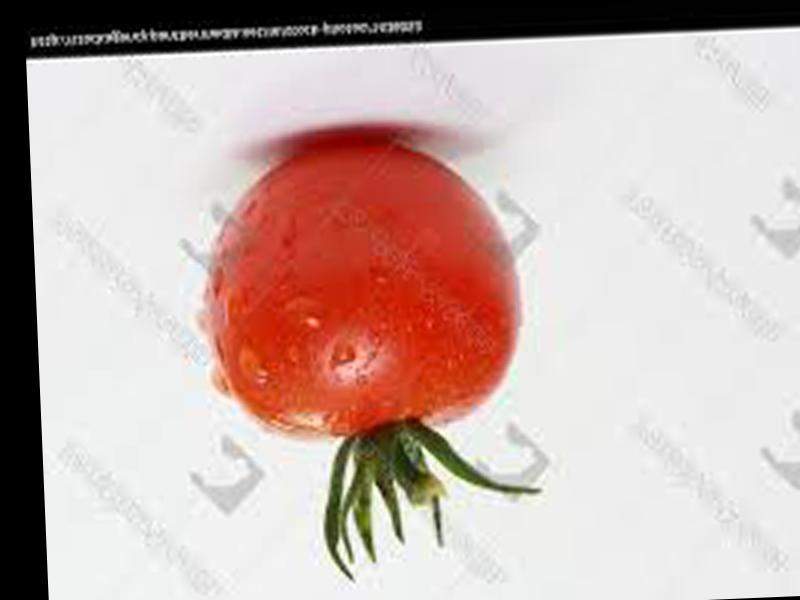Tomato: (200, 134, 525, 438)
